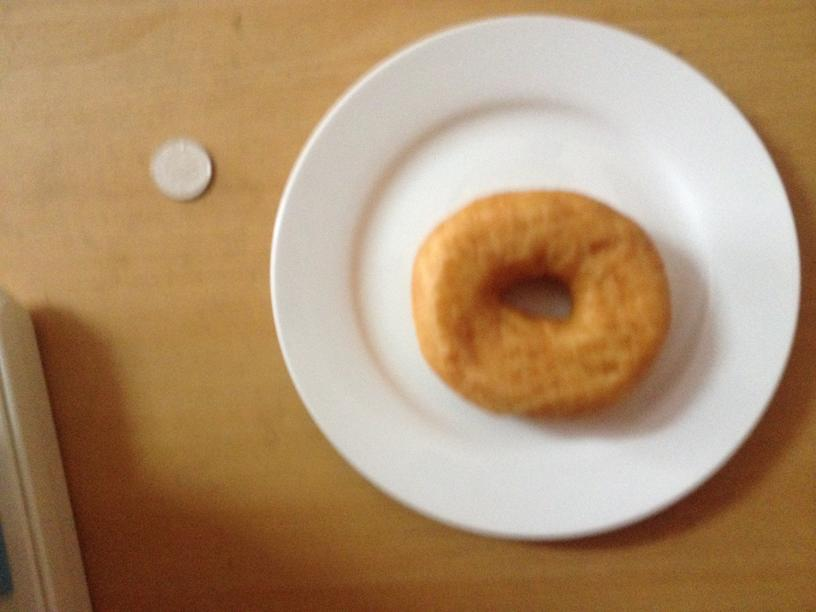coin: (409, 193, 667, 414)
doughnut: (409, 193, 667, 414)
